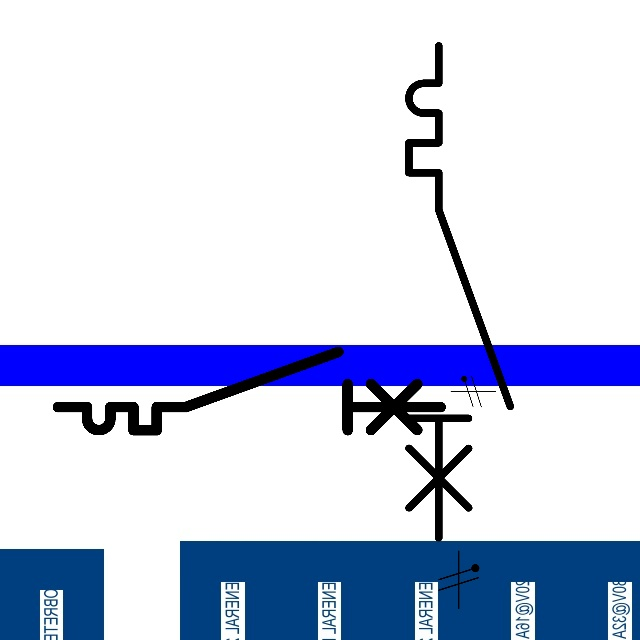interruptor_termomagnetico: (396, 33, 522, 550), (48, 342, 450, 440)
